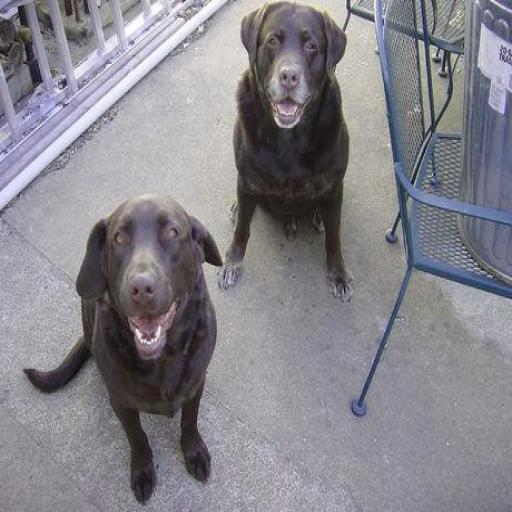dog_face: (87, 199, 225, 362), (240, 0, 343, 122)
